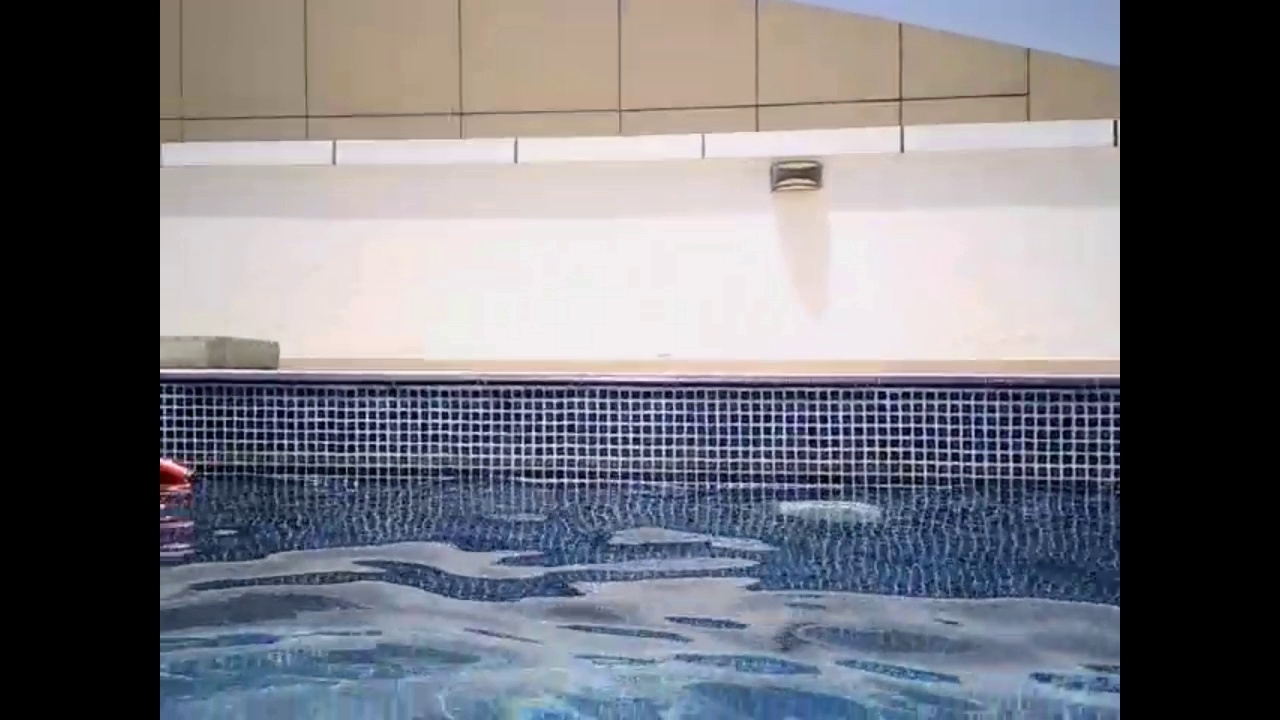debris: (162, 443, 209, 496)
